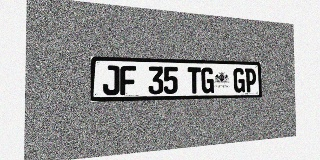3: (148, 66, 163, 94)
5: (164, 67, 178, 94)
F: (120, 66, 136, 95)
G: (201, 67, 214, 93), (233, 68, 245, 93)
J: (103, 65, 120, 95)
P: (245, 68, 256, 92)
T: (188, 67, 201, 94)
